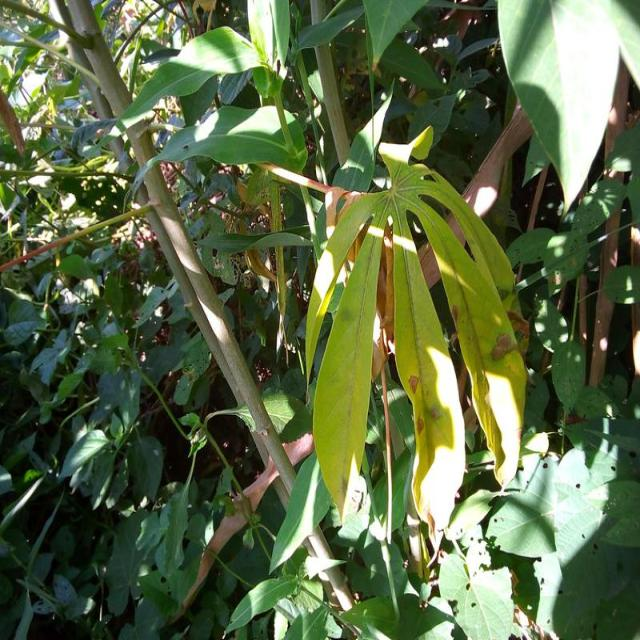cassava leaf: (305, 121, 527, 547)
